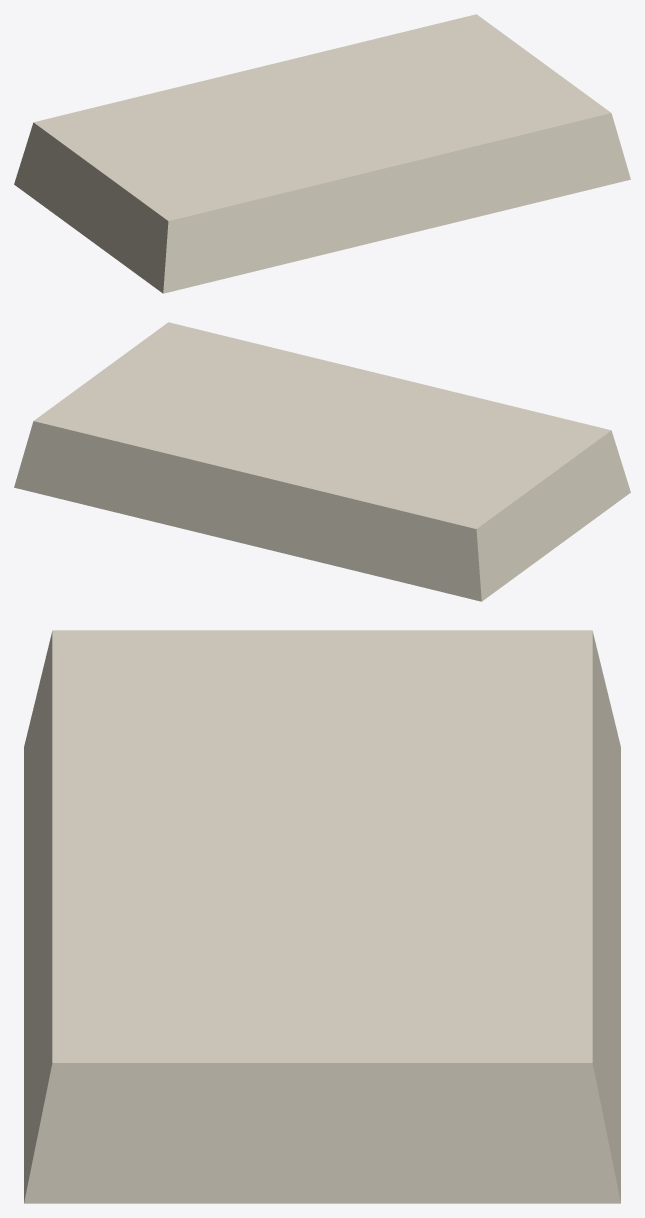
The model's file is Salon_Dem_TuaDai_BinhThuong.glb.
3 views of the same model, one above another, from view 1: azimuth 30°, elevation 25°; view 2: azimuth 150°, elevation 25°; view 3: azimuth 270°, elevation 25° (orthographic). The views are drawn at different scales.
Parts seen in each view (by area): view 1: geometry_0; view 2: geometry_0; view 3: geometry_0.
Part boxes in pixels (x1,y1,x2,y2): geometry_0: [14, 14, 630, 293]; geometry_0: [14, 322, 630, 601]; geometry_0: [24, 630, 620, 1203].
Size of the model in its own units: 0.76 by 0.1 by 0.42.
1 material, 1 textured.
